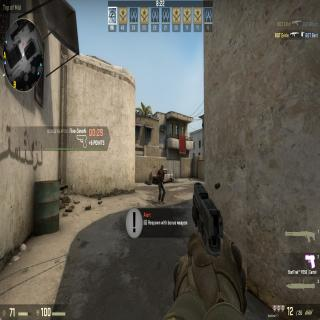T-Body: (157, 163, 166, 204)
T-Head: (160, 163, 164, 170)
